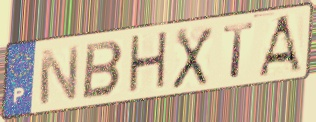A: (255, 13, 303, 78)
B: (80, 38, 126, 101)
H: (126, 29, 170, 98)
N: (38, 43, 81, 107)
T: (222, 20, 257, 81)
X: (169, 25, 215, 92)
